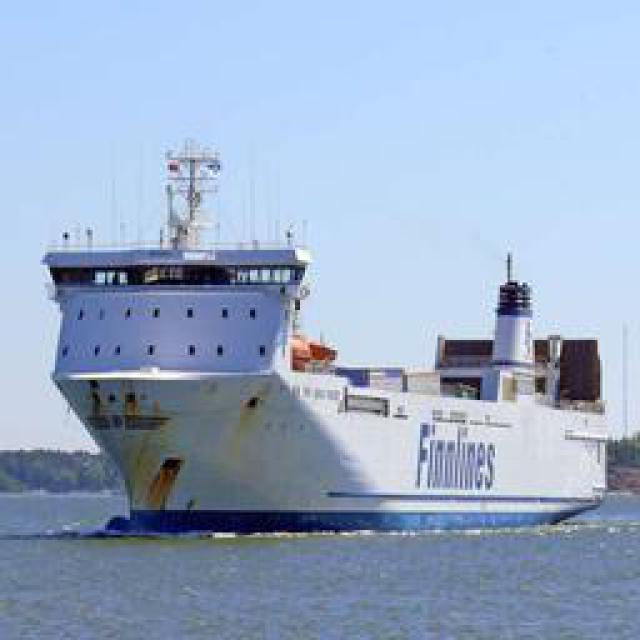Ship: (41, 200, 609, 535)
